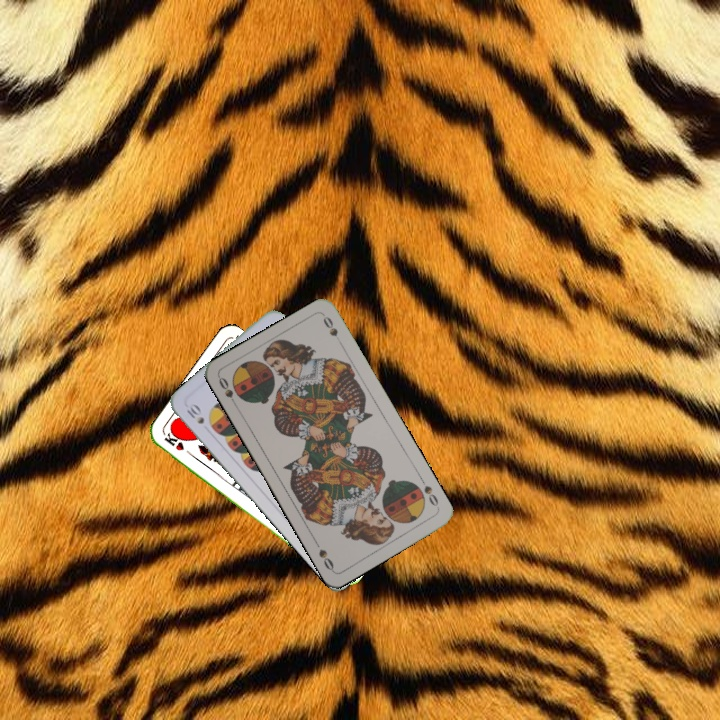HK: (160, 430, 197, 460)
S10: (182, 401, 207, 427)
SO: (214, 373, 240, 410), (416, 474, 442, 511)
